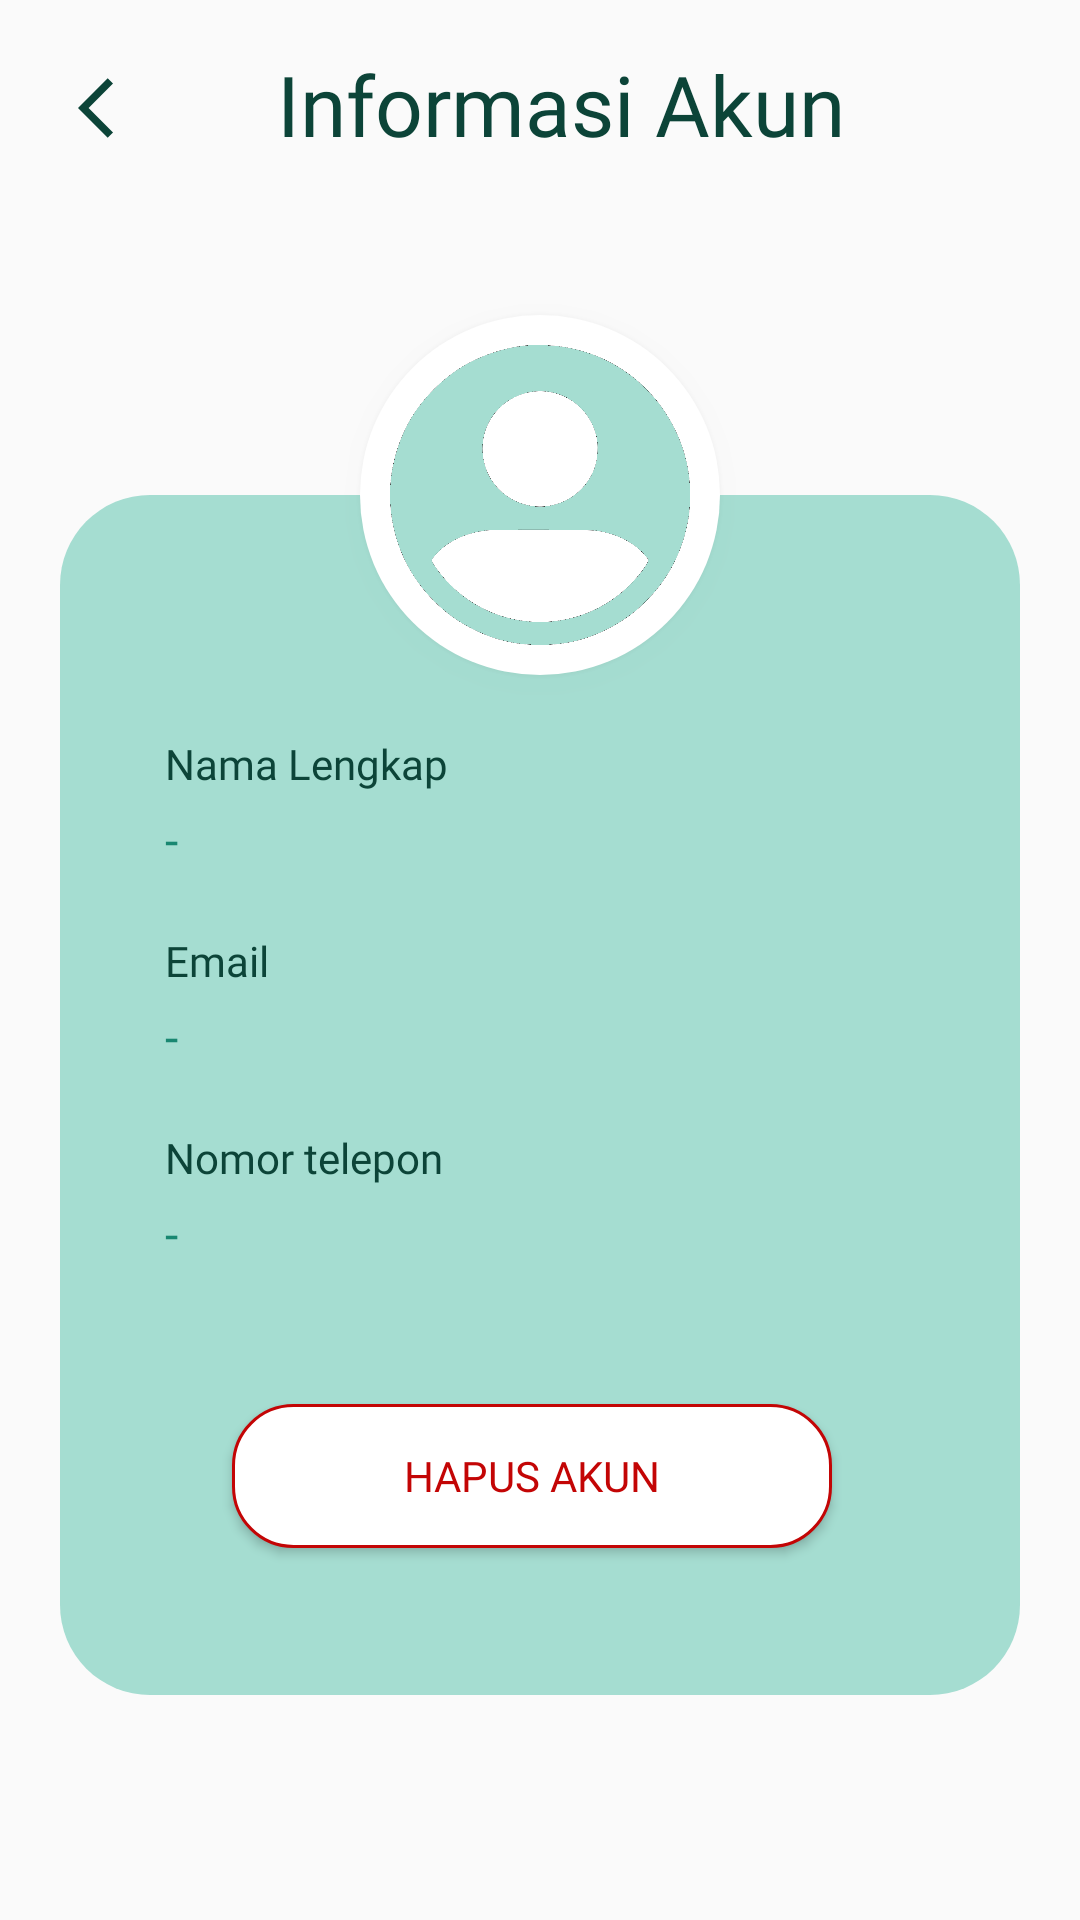

Icon click points for this 1080*1920 phone screenshot, format [x,y]:
back: [95,108]
profile def: [540,495]
